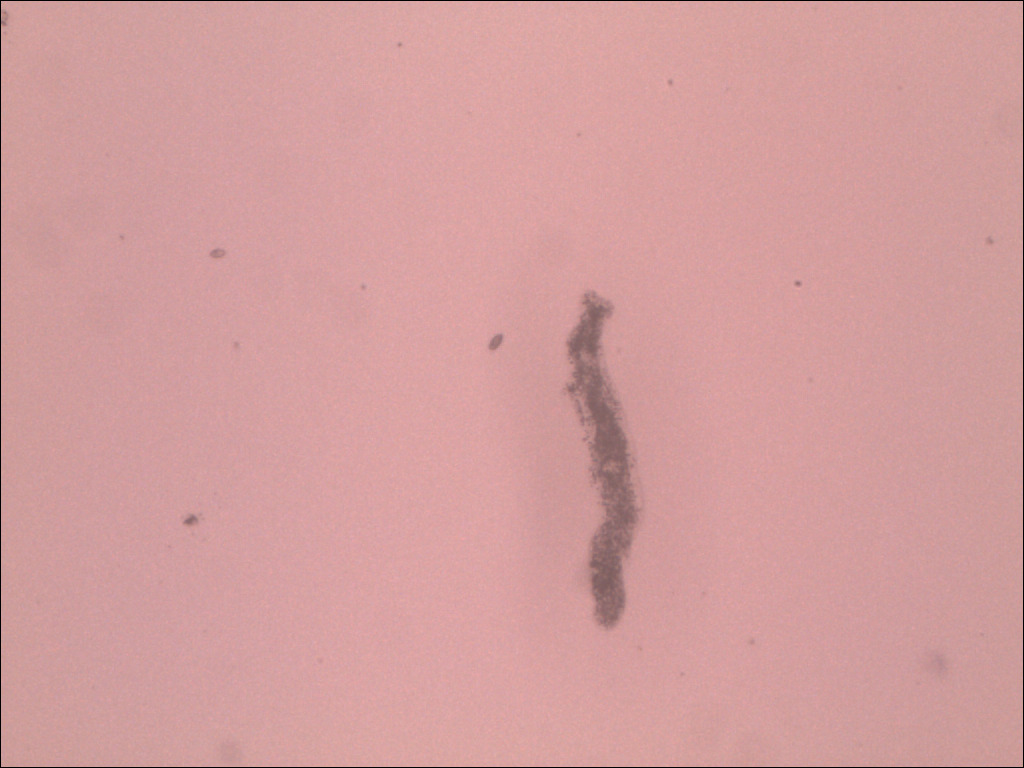amoeba: (545, 282, 661, 644)
